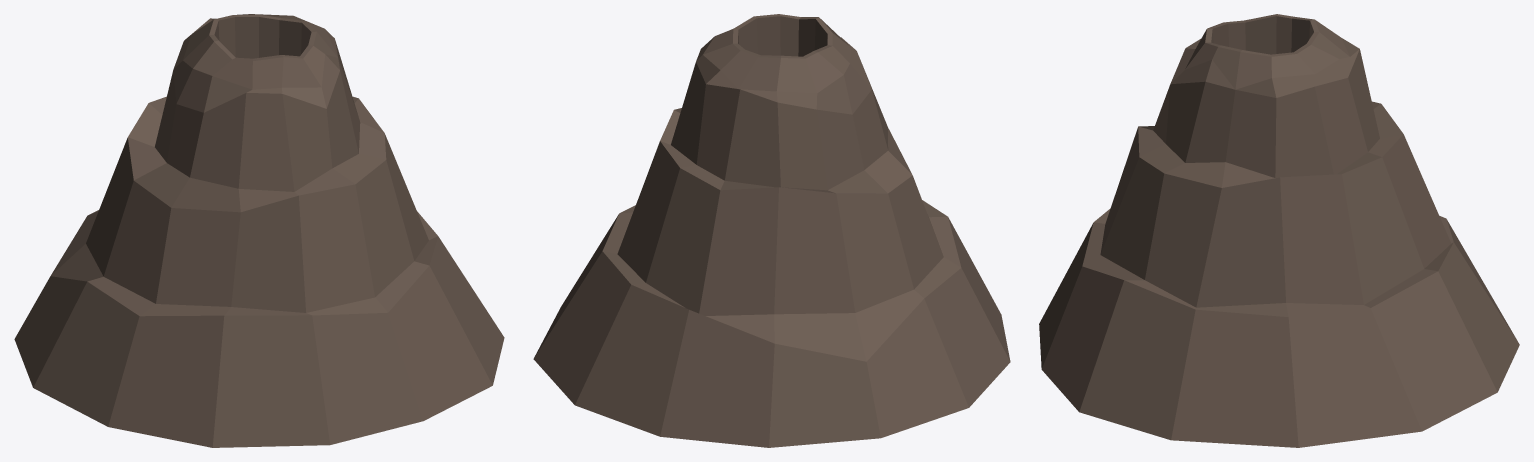
File: vulcano.fbx
3 views of the same model, side by side, from view 1: azimuth 30°, elevation 25°; view 2: azimuth 150°, elevation 25°; view 3: azimuth 270°, elevation 25° (orthographic). The views are drawn at different scales.
Visible parts, largest first — view 1: Circle; view 2: Circle; view 3: Circle.
Boxes of the visible parts, box(x1,y1,x2,y2) form: Circle: box(14, 14, 504, 447); Circle: box(533, 14, 1010, 447); Circle: box(1039, 14, 1519, 447).
Size of the model in its own units: 549 by 397 by 549.
